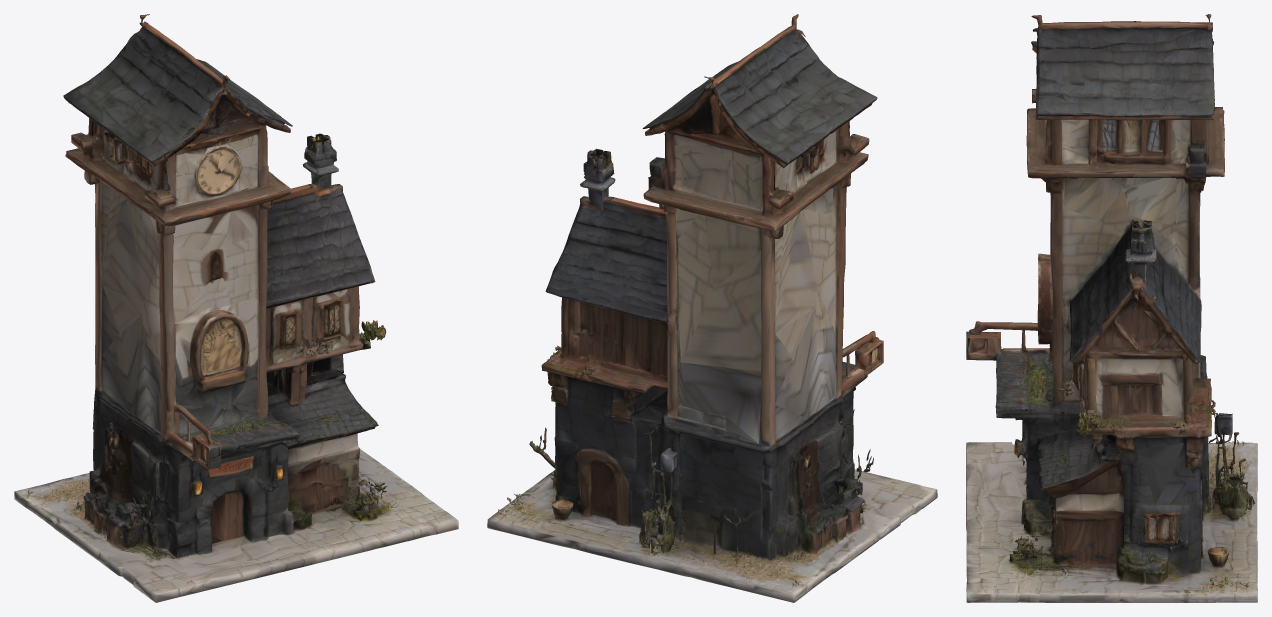
Rendered from Old_Town_Clock_Tower.glb.
The picture shows the model from 3 angles, left to right: view 1: azimuth 30°, elevation 25°; view 2: azimuth 150°, elevation 25°; view 3: azimuth 270°, elevation 25°; orthographic projection. The views are drawn at different scales.
Parts seen in each view (by area): view 1: Old_Town_Clock_Tower; view 2: Old_Town_Clock_Tower; view 3: Old_Town_Clock_Tower.
Boxes of the visible parts, bbox=[...] form: Old_Town_Clock_Tower: bbox=[14, 14, 458, 602]; Old_Town_Clock_Tower: bbox=[487, 14, 937, 602]; Old_Town_Clock_Tower: bbox=[966, 14, 1257, 602].
Size of the model in its own units: 1.34 by 2 by 1.08.
1 material, 1 textured.
